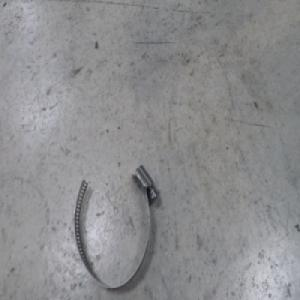AdjustableClamp: (73, 162, 159, 290)
